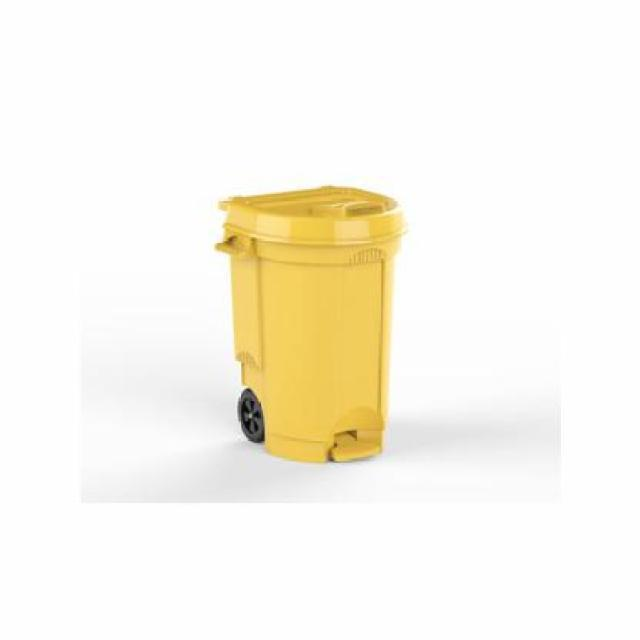garbage container: (205, 166, 411, 486)
